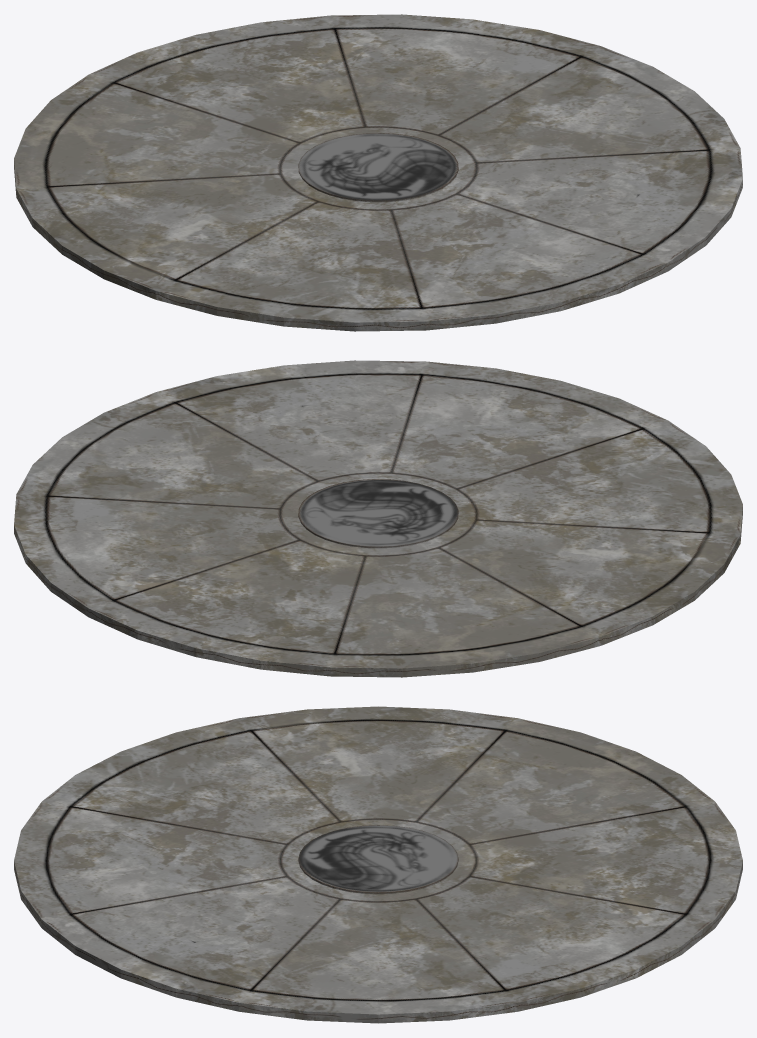
The model's file is platform.fbx.
3 views of the same model, one above another, from view 1: azimuth 30°, elevation 25°; view 2: azimuth 150°, elevation 25°; view 3: azimuth 270°, elevation 25° (orthographic).
Visible parts, largest first — view 1: platform; view 2: platform; view 3: platform.
Boxes of the visible parts, bbox=[...] form: platform: bbox=[14, 14, 742, 331]; platform: bbox=[14, 360, 742, 677]; platform: bbox=[14, 706, 742, 1023].
Bounding box in the file's own units: 10.13 × 0.1608 × 10.13.
